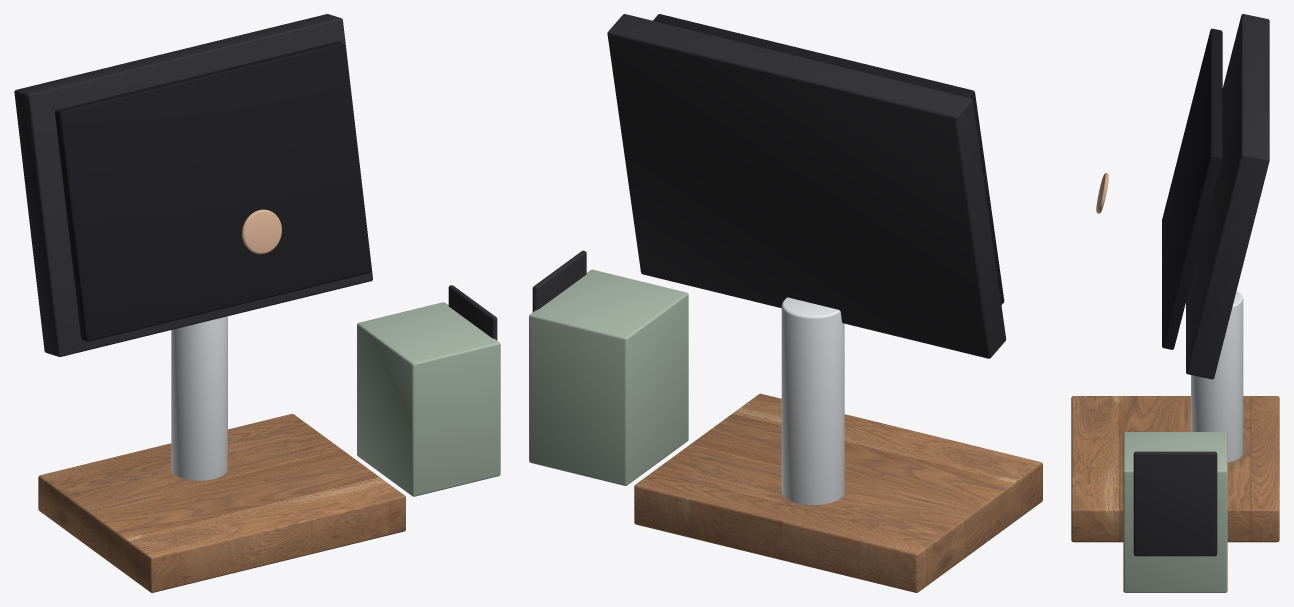
The model's file is posTerminal.glb.
The picture shows the model from 3 angles, left to right: view 1: azimuth 30°, elevation 25°; view 2: azimuth 150°, elevation 25°; view 3: azimuth 270°, elevation 25°; orthographic projection. The views are drawn at different scales.
Parts seen in each view (by area): view 1: PosTerminal; view 2: PosTerminal; view 3: PosTerminal.
Boxes of the visible parts, <box> form: PosTerminal: <box>14,14,500,592</box>; PosTerminal: <box>529,14,1042,592</box>; PosTerminal: <box>1071,14,1279,592</box>.
Bounding box in the file's own units: 0.4175 × 0.4257 × 0.2.
Materials: 6 (1 with a texture image).
